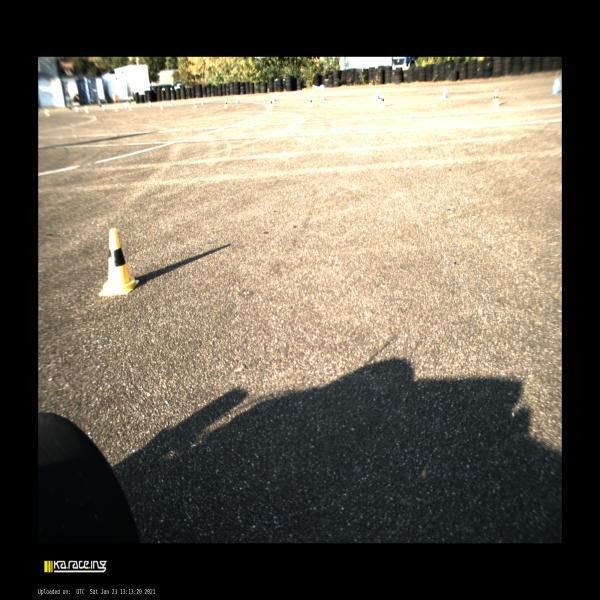blue_cone: (442, 86, 448, 98), (321, 92, 326, 101), (236, 96, 240, 103), (376, 90, 379, 99), (272, 96, 276, 101), (202, 99, 204, 105)
yellow_cone: (99, 228, 139, 295), (490, 89, 500, 106), (380, 94, 385, 107), (193, 100, 197, 110), (224, 100, 228, 109), (308, 98, 312, 107), (269, 99, 272, 107), (160, 102, 163, 110)
